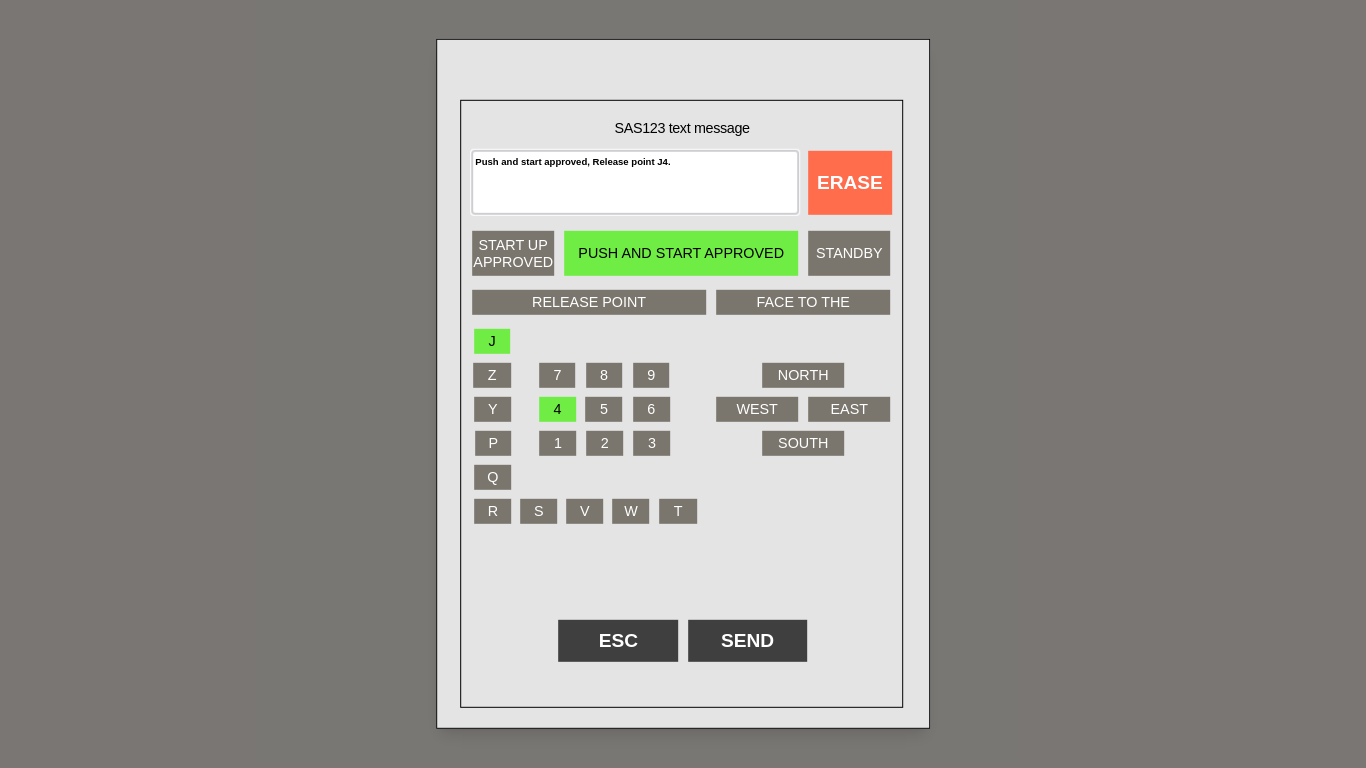
Test: text pilot composer › combines push letters and digits and toggles a direction off
Click the button "P" at (493, 443), box [476,431,511,456]
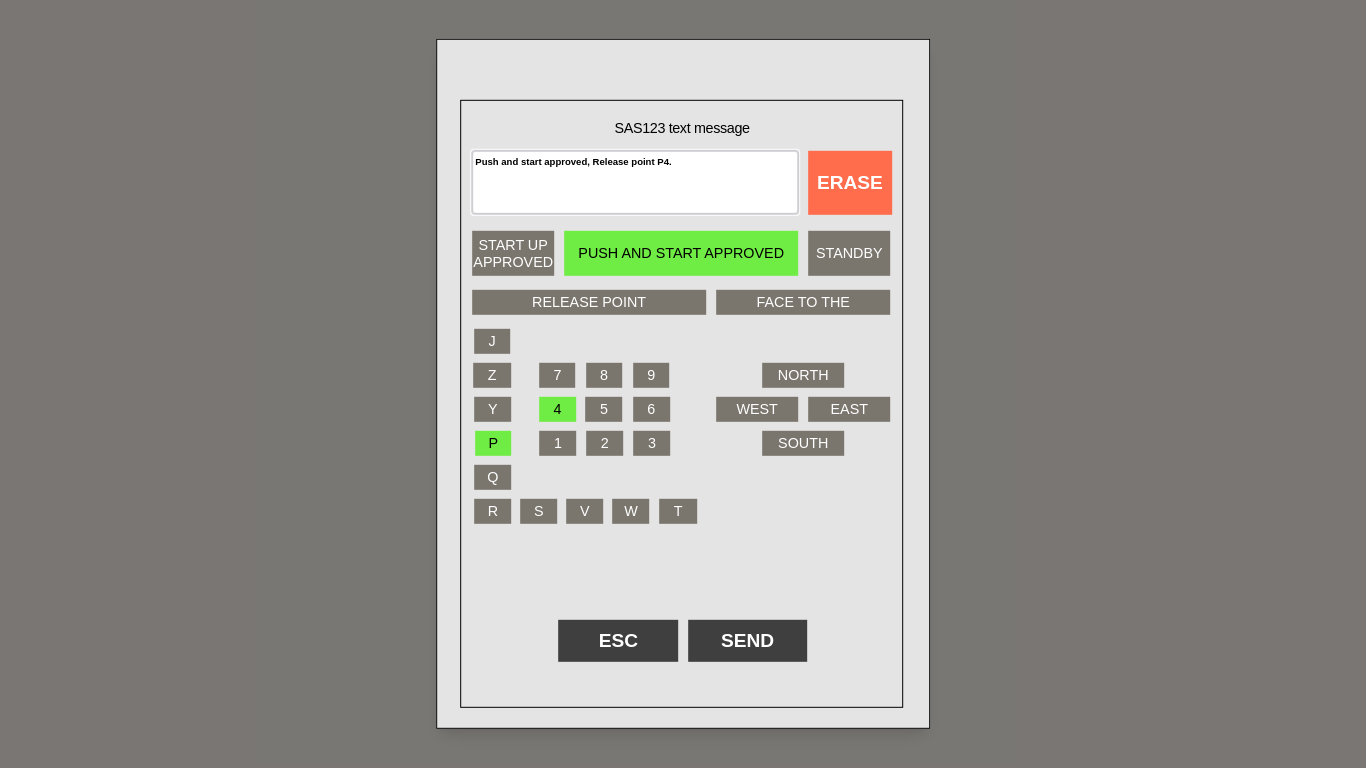
Expected: the text box holds "Push and start approved, Release point P4.", [472,151,798,214]
Click the button "2" at (605, 443), box [586,431,623,456]
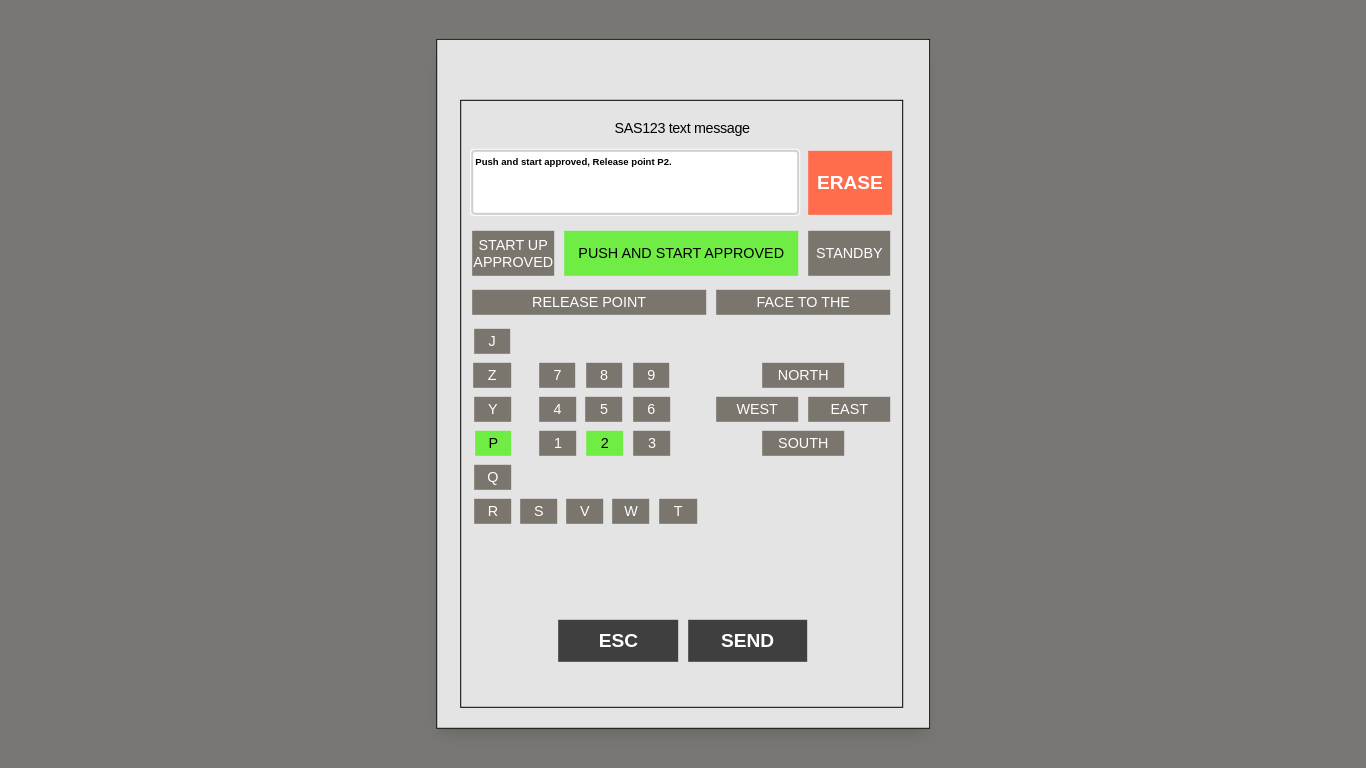
Expected: the text box holds "Push and start approved, Release point P2.", [472,151,798,214]
Click the button "NORTH" at (803, 375), box [762,363,844,388]
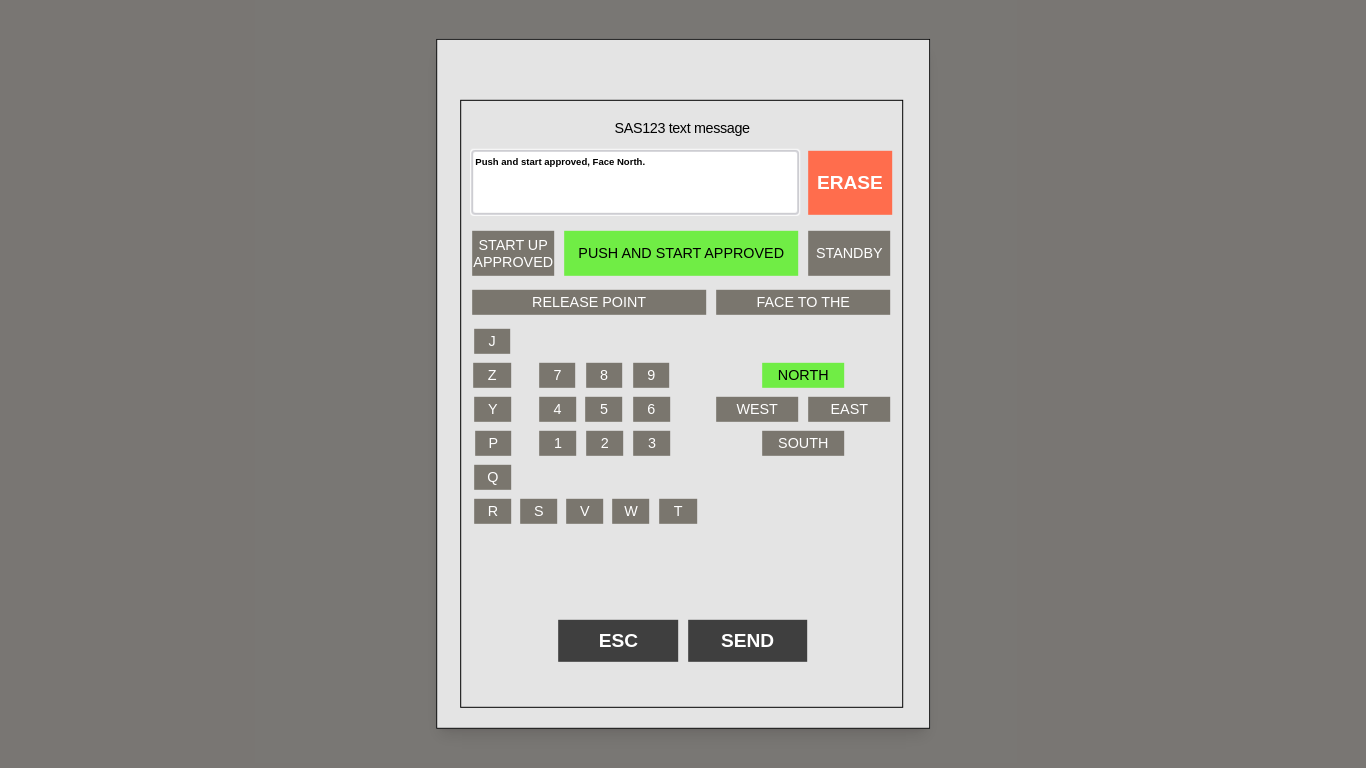
Expected: the text box holds "Push and start approved, Face North.", [472,151,798,214]
Click the button "NORTH" at (803, 375), box [762,363,844,388]
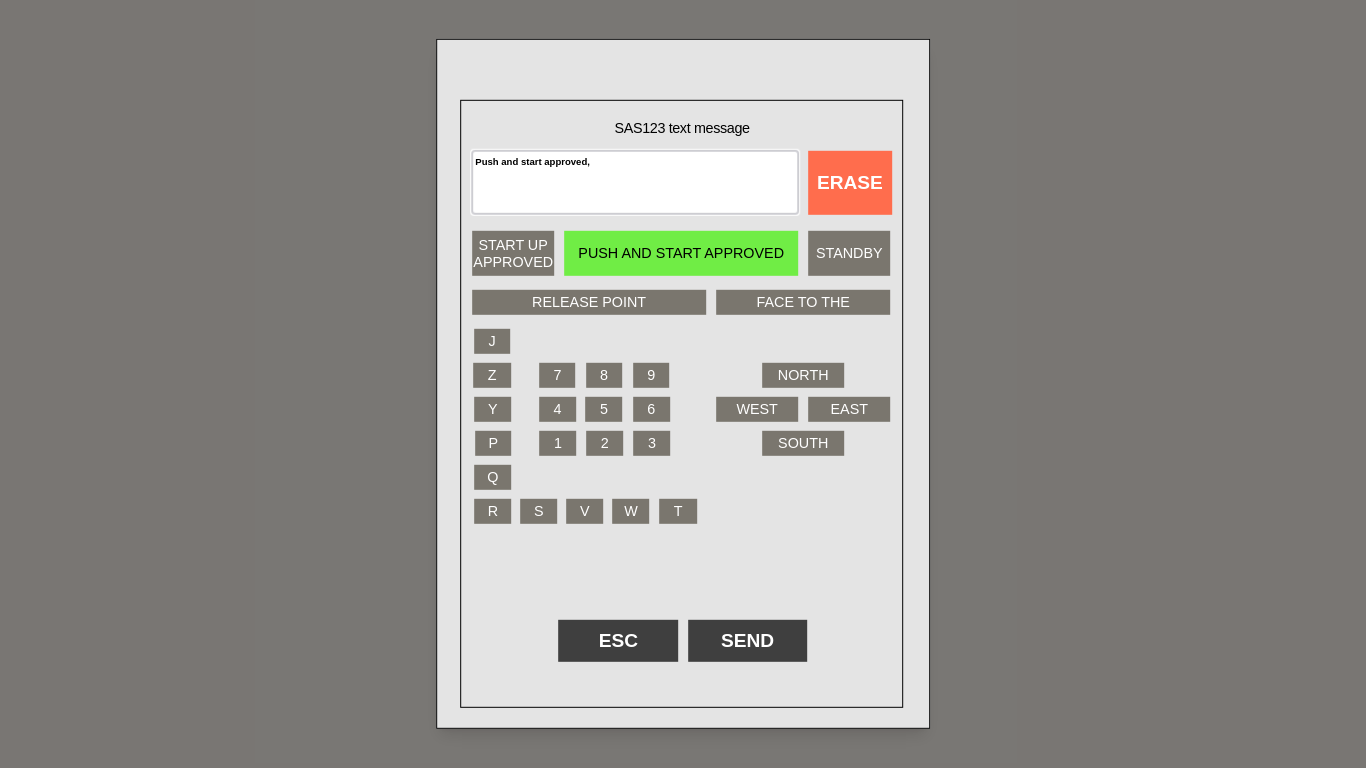
Expected: the text box holds "Push and start approved,", [472,151,798,214]
